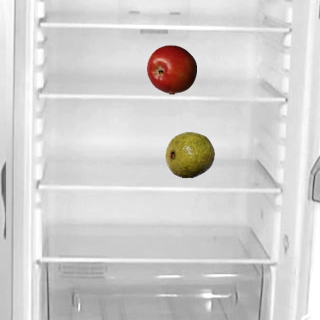Apple Braeburn: (146, 44, 196, 94)
Guava: (164, 129, 214, 179)
